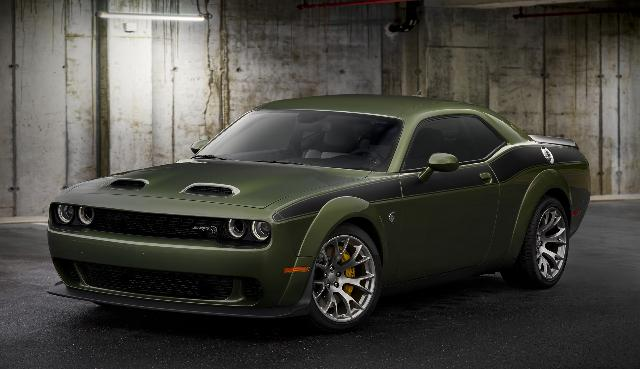dodge: (46, 92, 592, 330)
